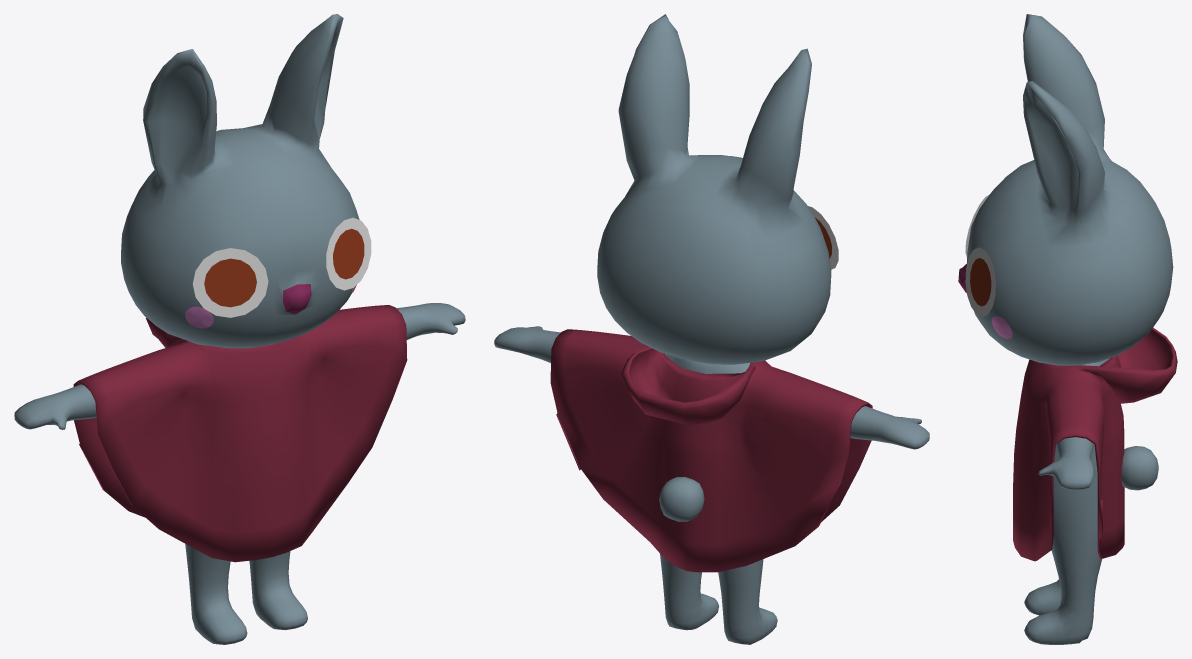
Rendered from BunnyMain.glb.
3 renders of one model, left to right at view 1: azimuth 30°, elevation 25°; view 2: azimuth 150°, elevation 25°; view 3: azimuth 270°, elevation 25°, orthographic. The views are drawn at different scales.
Visible parts, largest first — view 1: Plane.015, Cube.004, Plane.014, Circle.004; view 2: Cube.004, Plane.015, Plane.014, eyes.004, Circle.004; view 3: Cube.004, Plane.015, Plane.014, Circle.004, eyes.004.
Part boxes in pixels (bbox=[...]): Plane.015: bbox=[73, 305, 407, 562]; Cube.004: bbox=[121, 14, 359, 348]; Plane.014: bbox=[14, 303, 465, 644]; Circle.004: bbox=[192, 217, 371, 317]; Cube.004: bbox=[597, 14, 831, 364]; Plane.015: bbox=[550, 329, 872, 572]; Plane.014: bbox=[494, 326, 929, 644]; eyes.004: bbox=[659, 477, 704, 521]; Circle.004: bbox=[808, 206, 838, 269]; Cube.004: bbox=[958, 14, 1173, 365]; Plane.015: bbox=[1013, 327, 1177, 561]; Plane.014: bbox=[1024, 358, 1109, 644]; Circle.004: bbox=[965, 194, 995, 316]; eyes.004: bbox=[1121, 446, 1158, 490].
Size of the model in its own units: 6.88 by 8.99 by 3.1.
